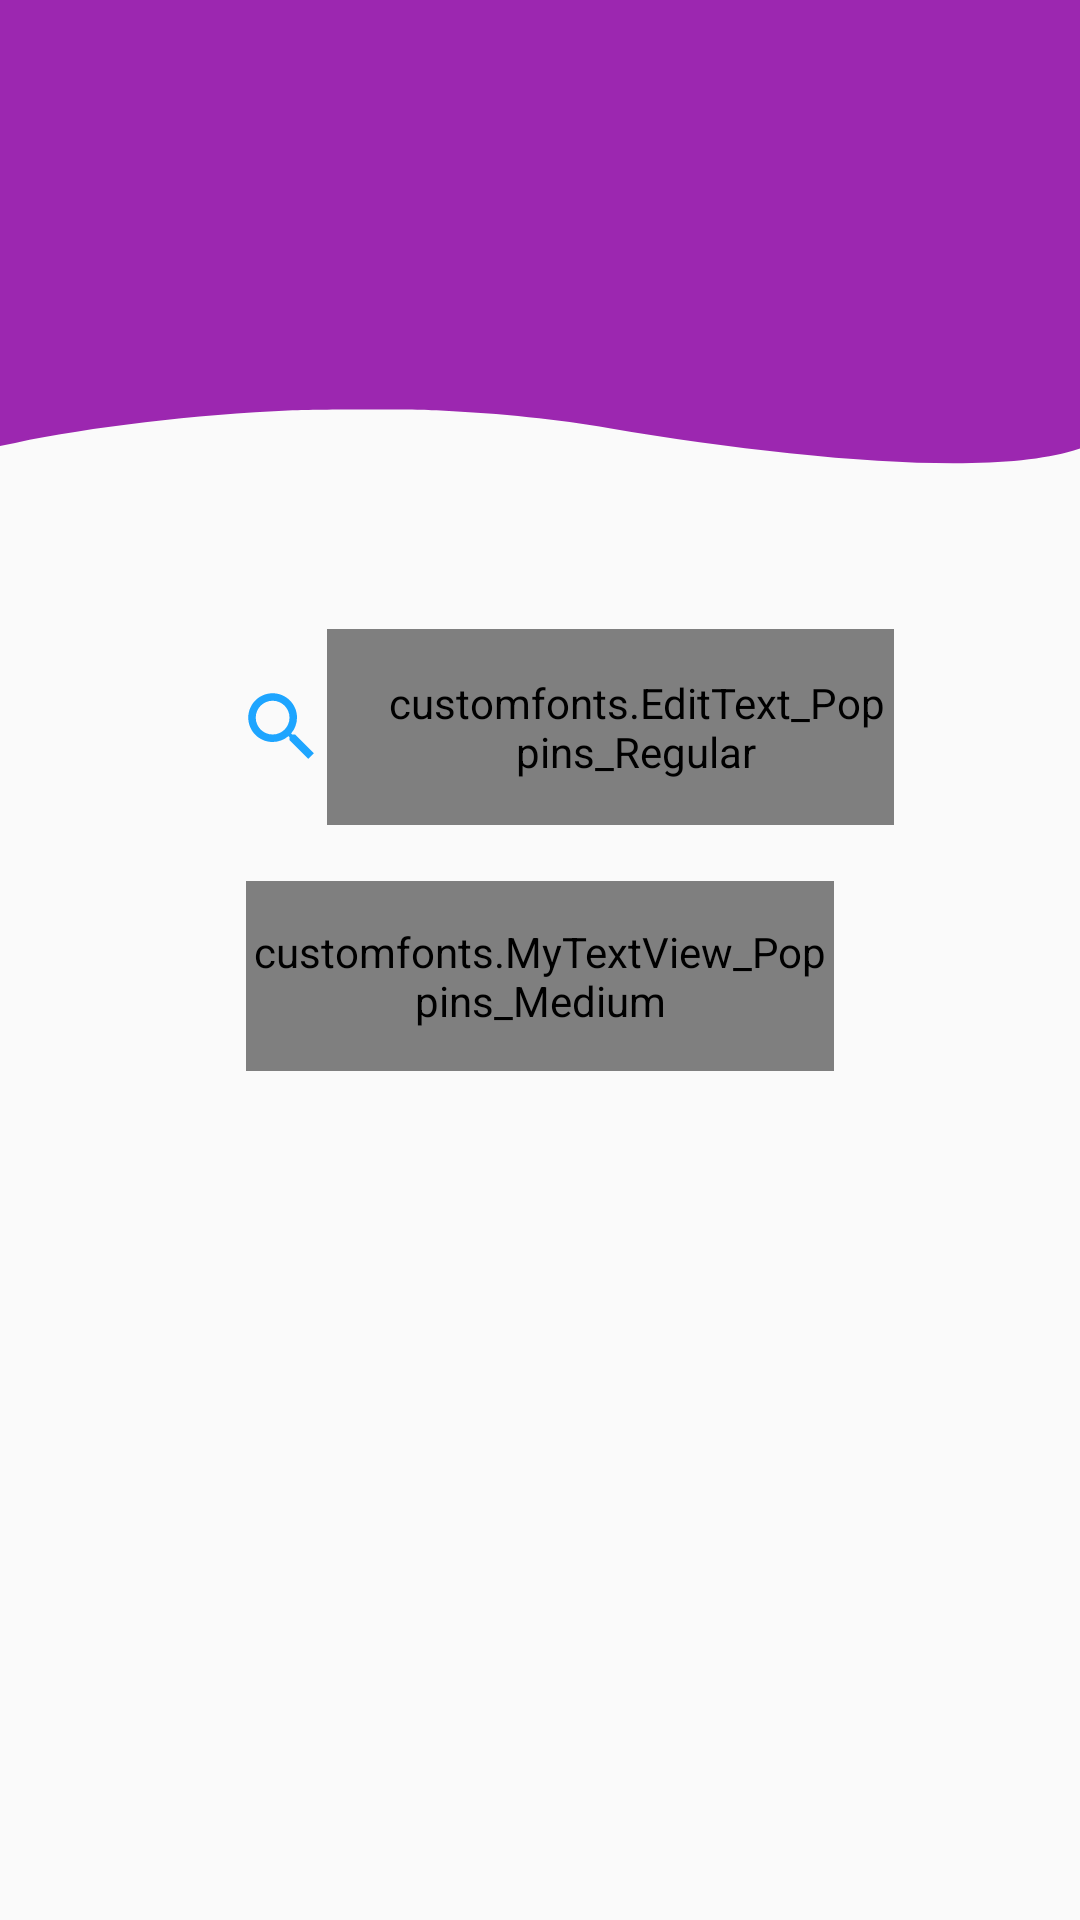

Icons on this 1080px x 1920px Android screen, each with its box as rect(x1, y1, x2, y2):
search: rect(248, 693, 314, 759)
